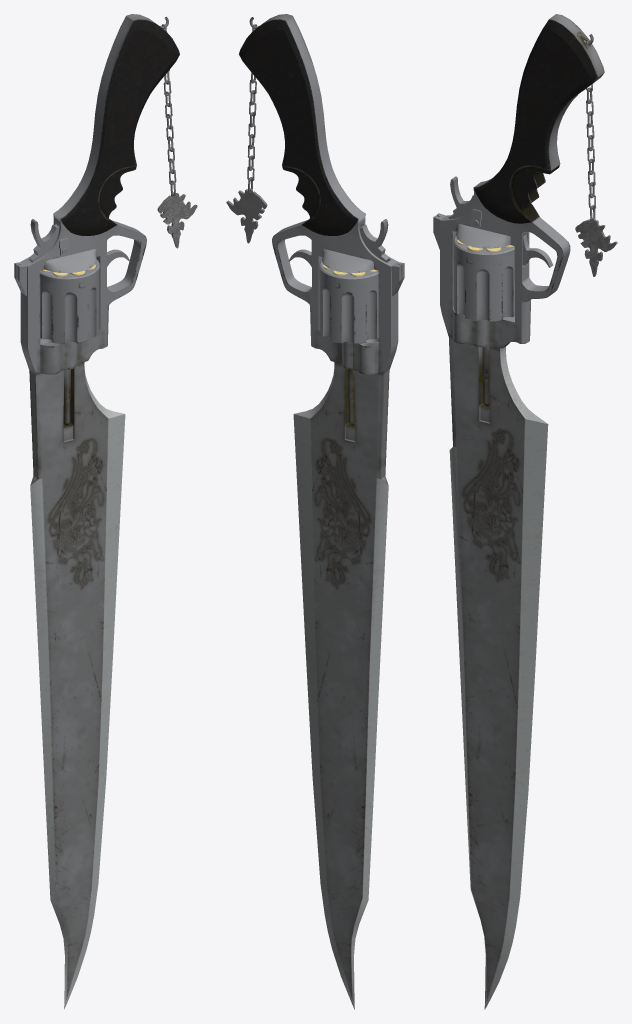
The model's file is revolver.glb.
3 views of the same model, side by side, from view 1: azimuth 30°, elevation 25°; view 2: azimuth 150°, elevation 25°; view 3: azimuth 330°, elevation 25° (orthographic). The views are drawn at different scales.
Visible parts, largest first — view 1: revolver_blade, revolver_cylinder, revolver_chain_mesh; view 2: revolver_blade, revolver_cylinder, revolver_chain_mesh; view 3: revolver_blade, revolver_cylinder, revolver_chain_mesh.
Boxes of the visible parts, x1,y1,x2,y2 form: revolver_blade: [14, 14, 179, 1009]; revolver_cylinder: [40, 260, 99, 425]; revolver_chain_mesh: [157, 16, 197, 248]; revolver_blade: [239, 14, 404, 1009]; revolver_cylinder: [319, 260, 378, 425]; revolver_chain_mesh: [226, 17, 267, 243]; revolver_blade: [433, 14, 604, 1009]; revolver_cylinder: [453, 235, 514, 406]; revolver_chain_mesh: [575, 34, 617, 276].
Bounding box in the file's own units: 0.2284 × 1.2 × 0.0737.
Materials: 1 (1 with a texture image).
